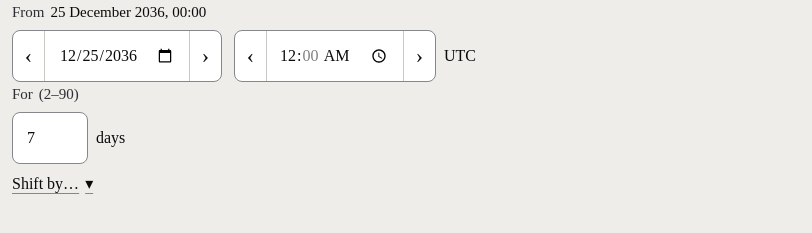
Scenario: PeriodControls › moves the landing an hour or a day either way, across midnight too, keeping the length
The image size is (812, 233).
Earlier steps of the test are not shown.
Click the button named "One day later": [205, 56] box [189,31,221,81]
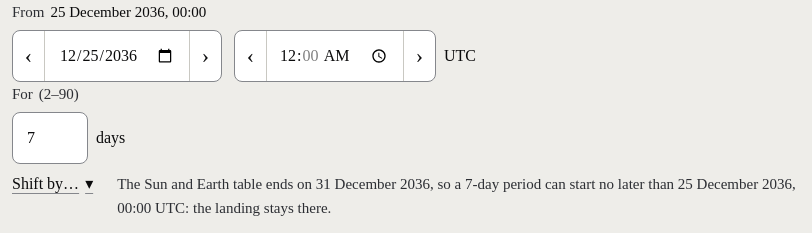
Result: the message shows "The Sun and Earth table ends on 31 December 2036, so a 7-day period can start no later than 25 December 2036, 00:00 UTC: the landing stays there." at [117,176,796,216]
